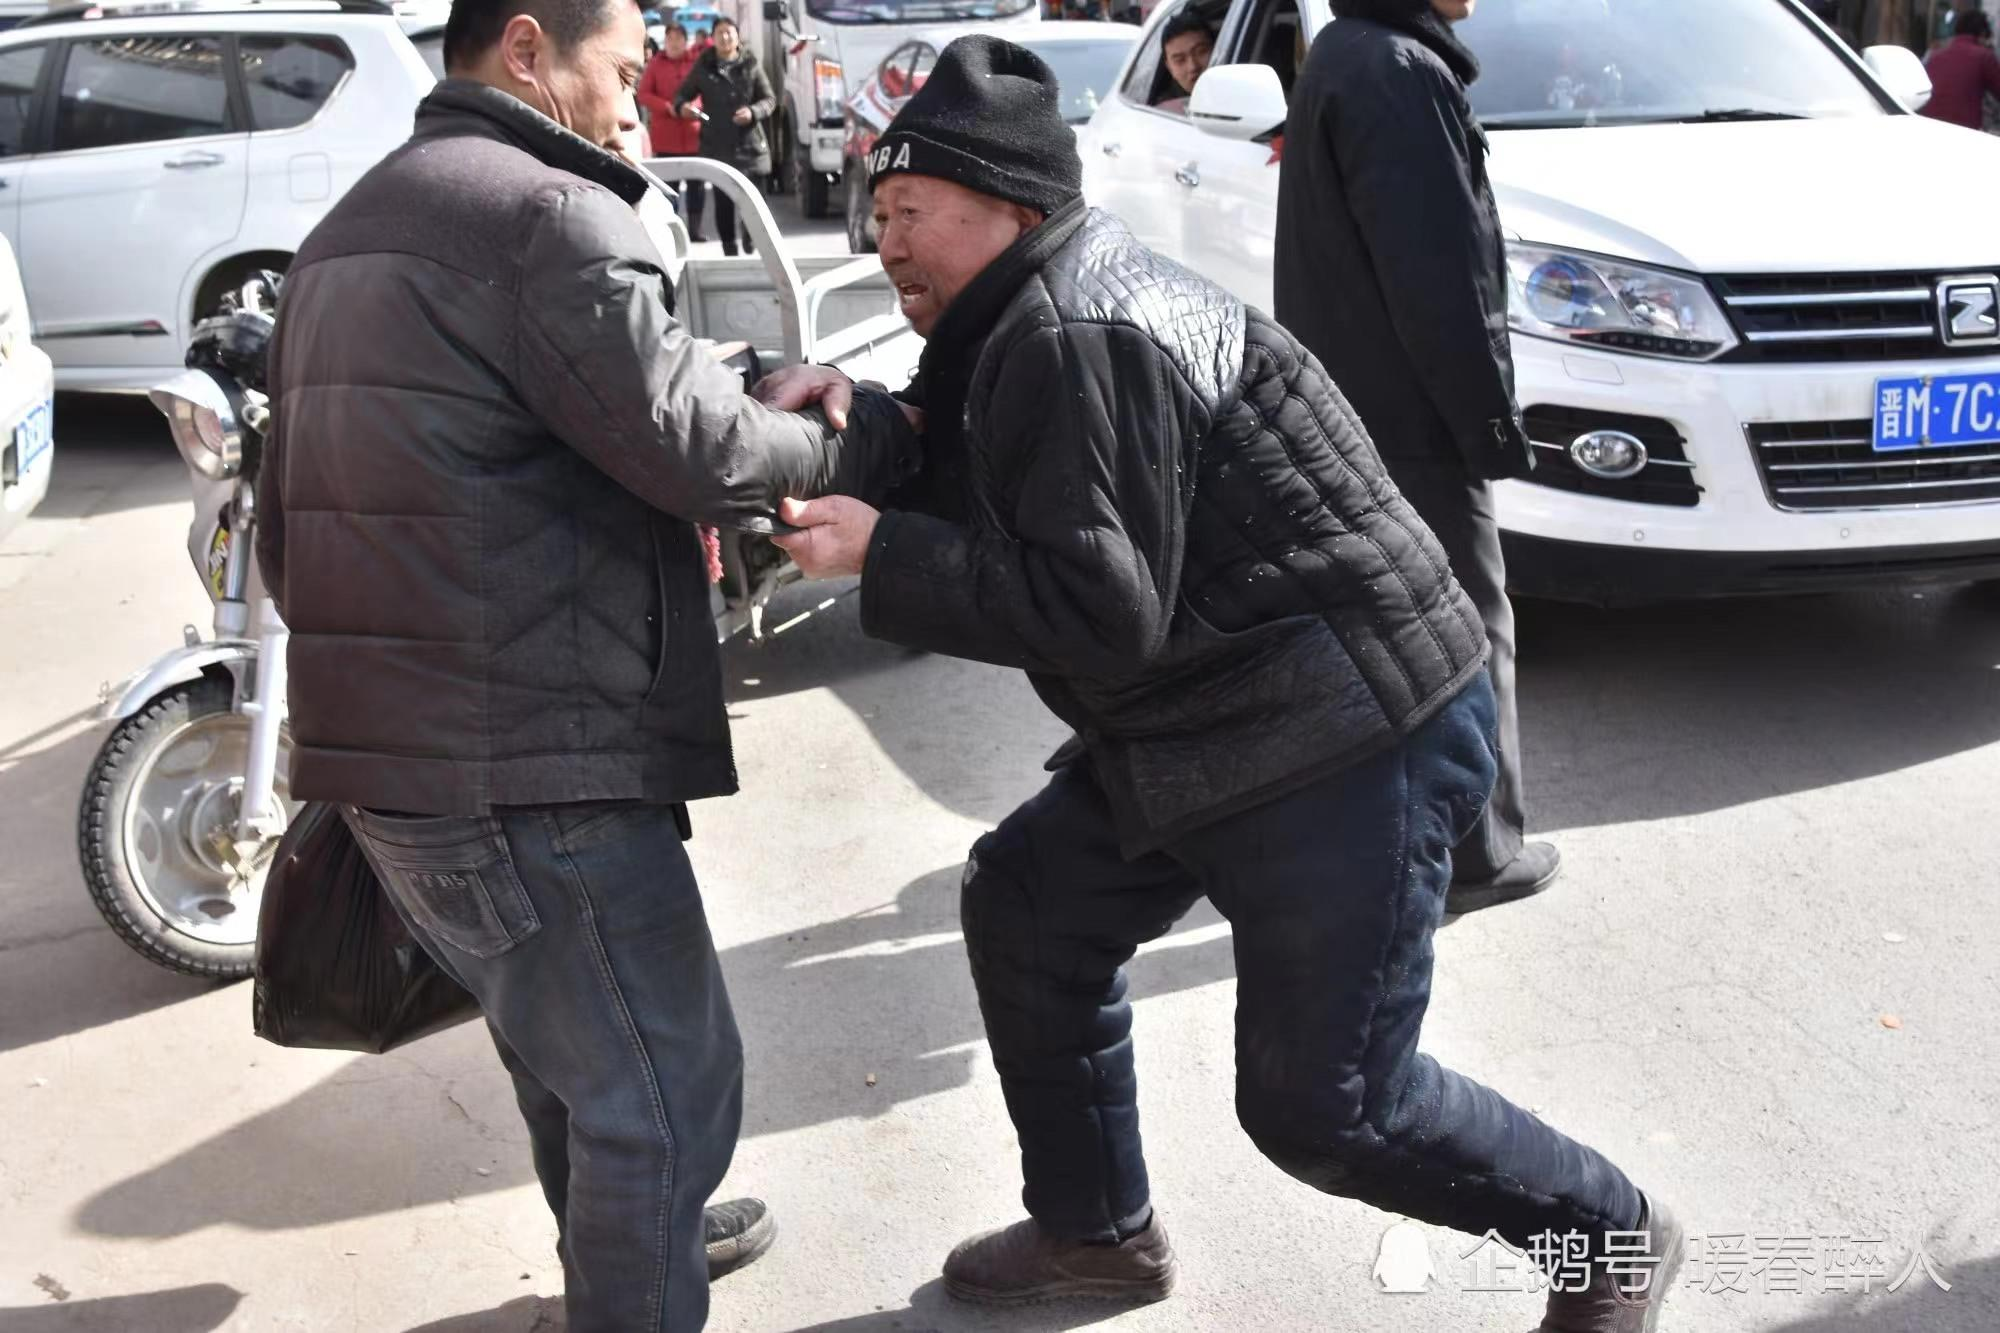bending: (816, 89, 1668, 1333)
up: (286, 3, 776, 1333), (1289, 1, 1561, 915)
